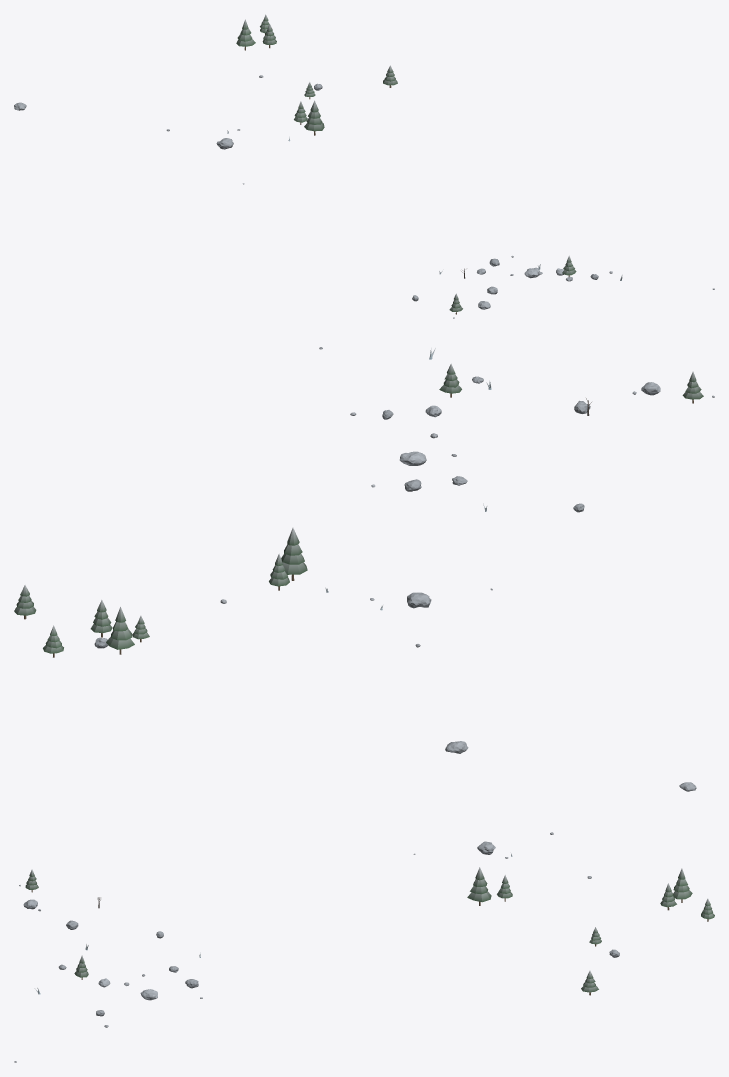
The model's file is frost_land_scatter_c21_11.glb.
The picture shows the model from 3 angles, top to bottom: view 1: azimuth 30°, elevation 25°; view 2: azimuth 150°, elevation 25°; view 3: azimuth 270°, elevation 25°; orthographic projection. The views are drawn at different scales.
Parts seen in each view (by area): view 1: frost_land_scatter_c21_11; view 2: frost_land_scatter_c21_11; view 3: frost_land_scatter_c21_11.
Boxes of the visible parts, x1,y1,x2,y2 form: frost_land_scatter_c21_11: (14,14,714,318); frost_land_scatter_c21_11: (14,347,714,753); frost_land_scatter_c21_11: (14,782,714,1062).
Size of the model in its own units: 184 by 41.81 by 253.
